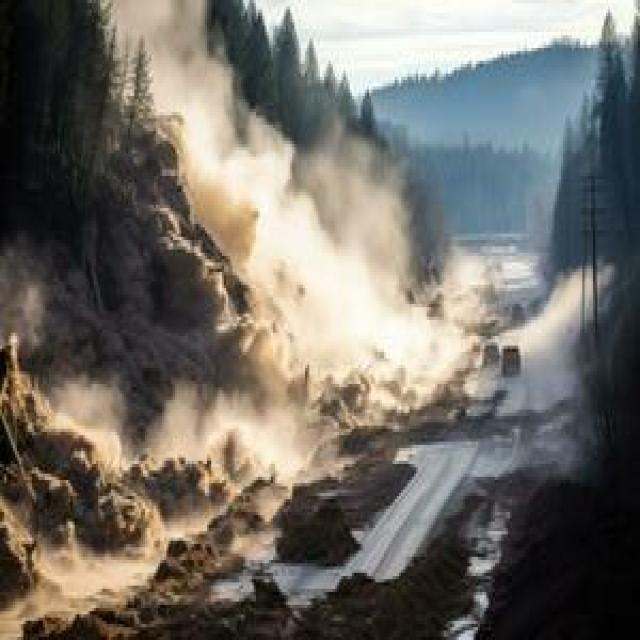road collapse: (13, 59, 640, 640)
